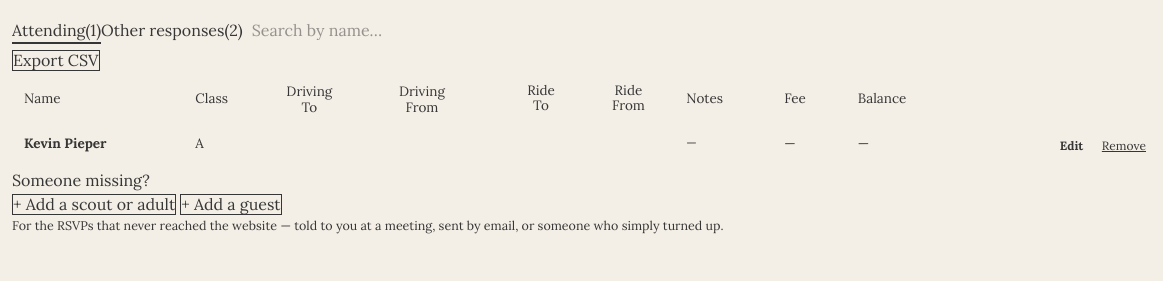
Test: Roster grid — main tab is attending people only › OtherTab_RemovedRows_CanBeDeletedPermanently_WithATwoClickConfirm_OthersCannot
Click the tab "Other responses (2)": (172, 31) [101, 18, 243, 44]
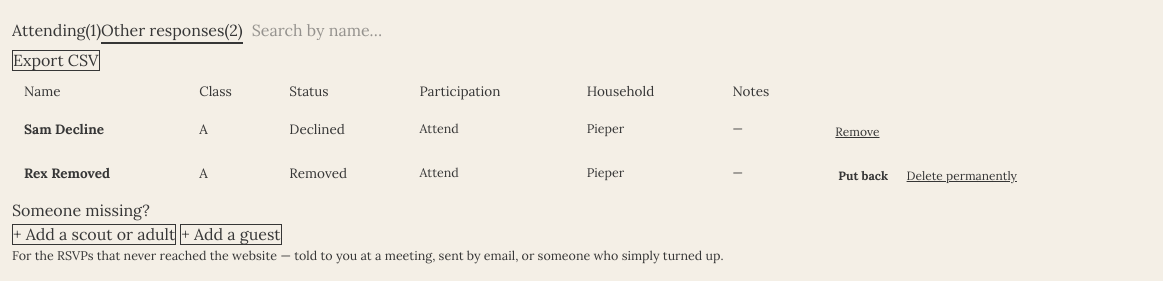
Click the button "Delete permanently": (962, 176) [901, 163, 1023, 189]
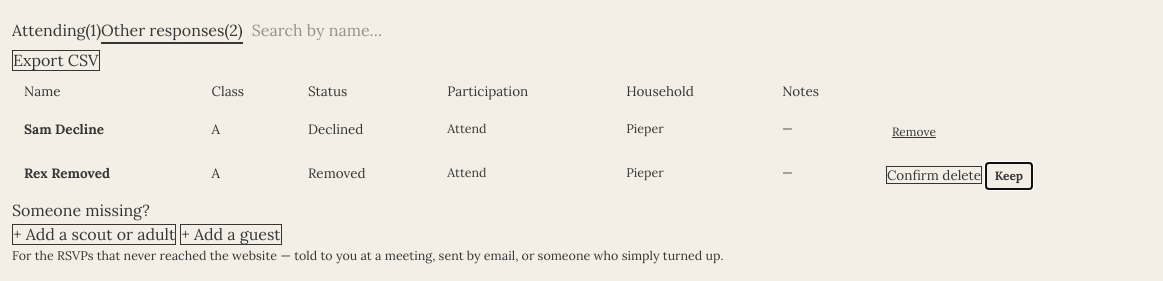
expect the button "Confirm delete" is shown: met, box [886, 166, 982, 184]
Click the button "Keep": (1009, 176) [986, 163, 1032, 189]
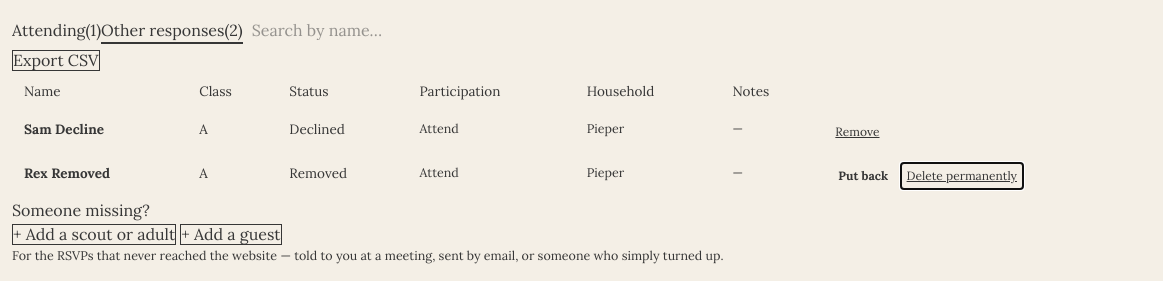
expect the button "Delete permanently" is shown: met, box [901, 163, 1023, 189]
expect the button "Put back" is shown: met, box [829, 163, 897, 189]
